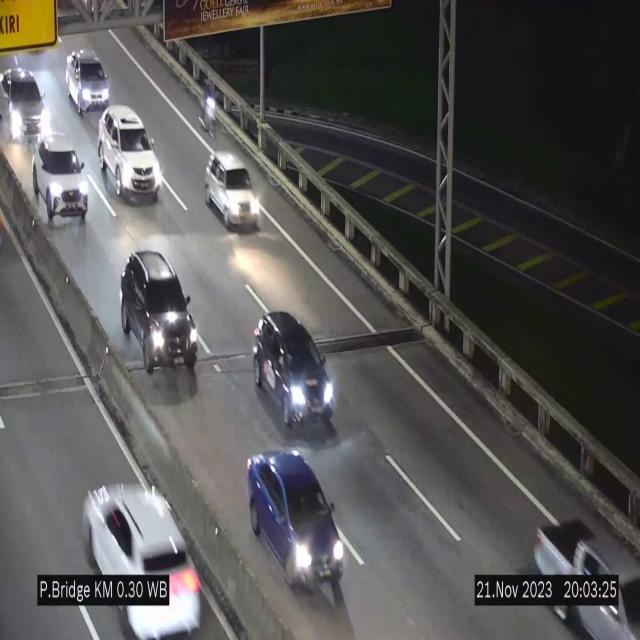Car: (83, 457, 201, 640), (250, 451, 348, 589), (115, 241, 201, 379), (250, 307, 340, 432), (99, 105, 161, 203), (32, 135, 90, 227), (204, 151, 260, 229), (0, 61, 49, 143), (66, 51, 111, 117)
Motorcycle: (200, 81, 218, 148)
Truck: (526, 494, 640, 640)
